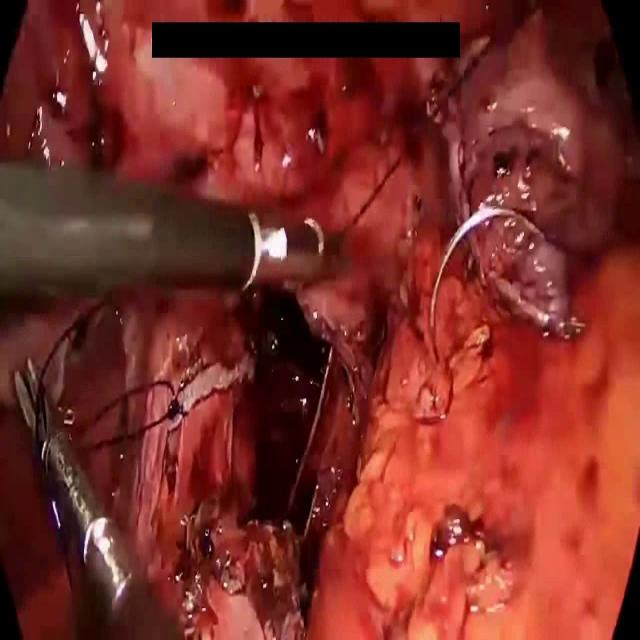surgical-area: (0, 0, 640, 639)
surgical-tool: (0, 159, 340, 300), (14, 356, 176, 639)
